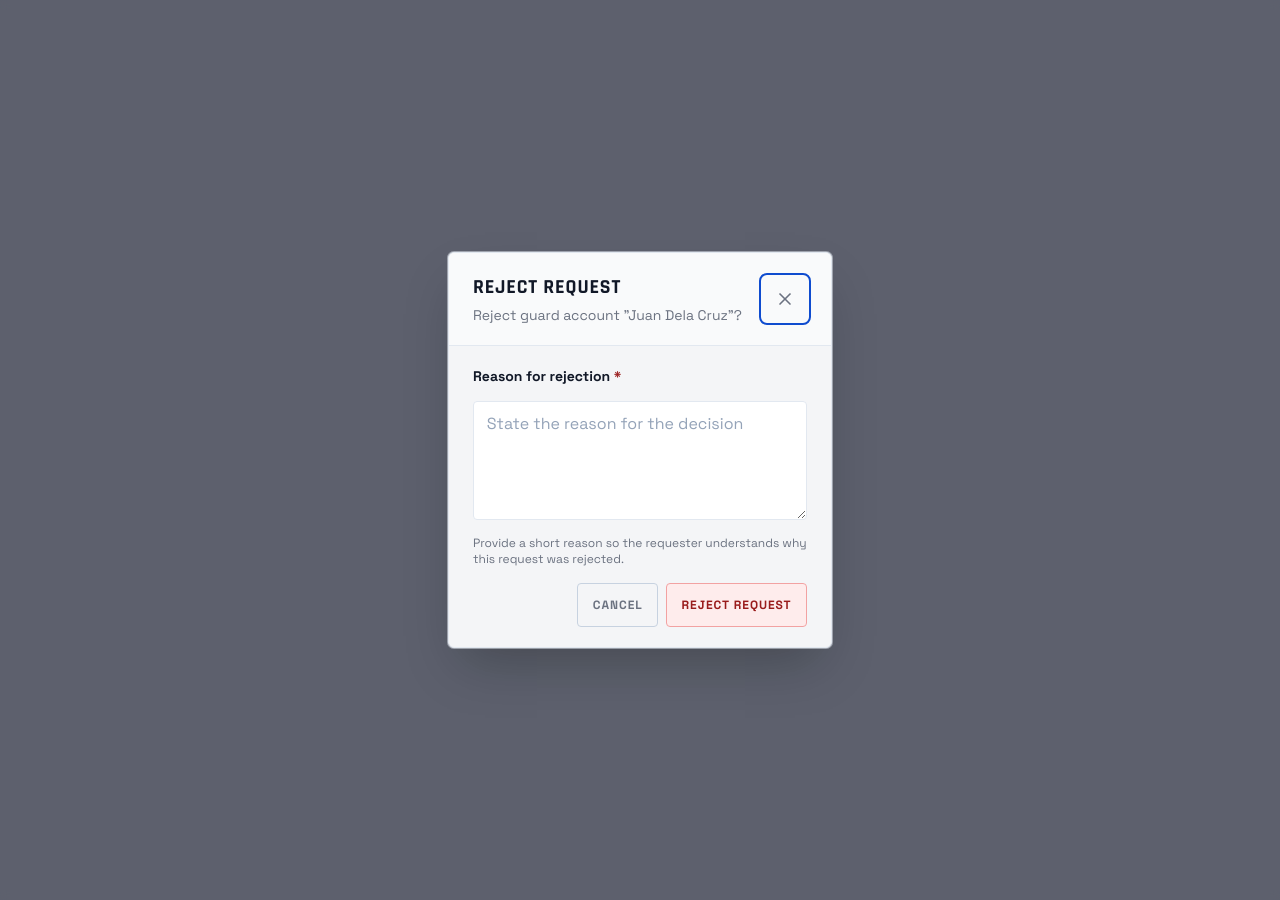
RejectApprovalDialog › keeps the dialog and entered reason when rejection fails
Type "License details could not be verified" into the text box labelled "Reason for rejection *" at (640, 460), box [473, 401, 807, 520]
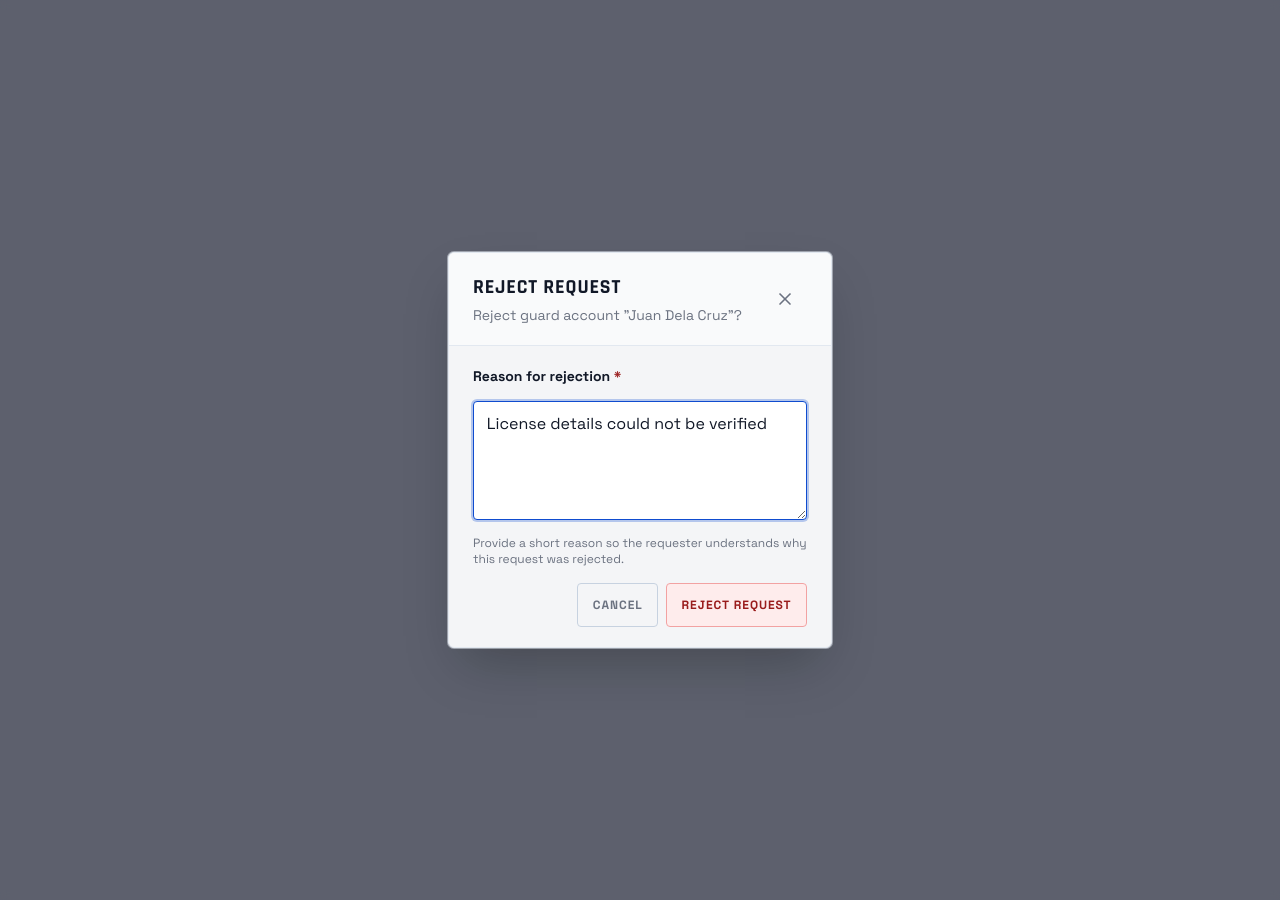
Click the button "Reject request" at (737, 605), box [666, 583, 807, 627]
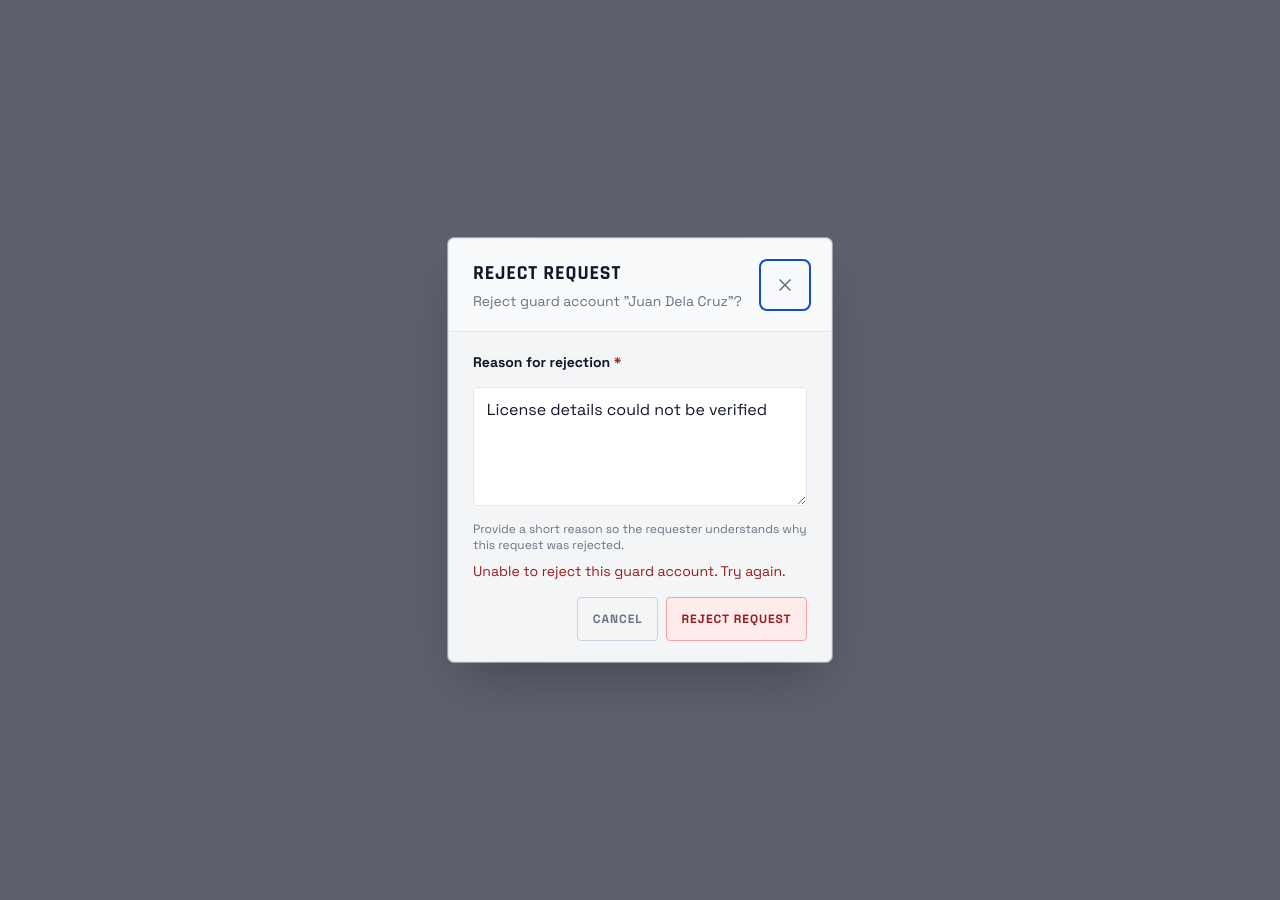
expect the dialog is shown: met, box [448, 238, 832, 662]
expect the message reads "Unable to reject this guard account. Try again.": met, box [473, 562, 786, 580]
